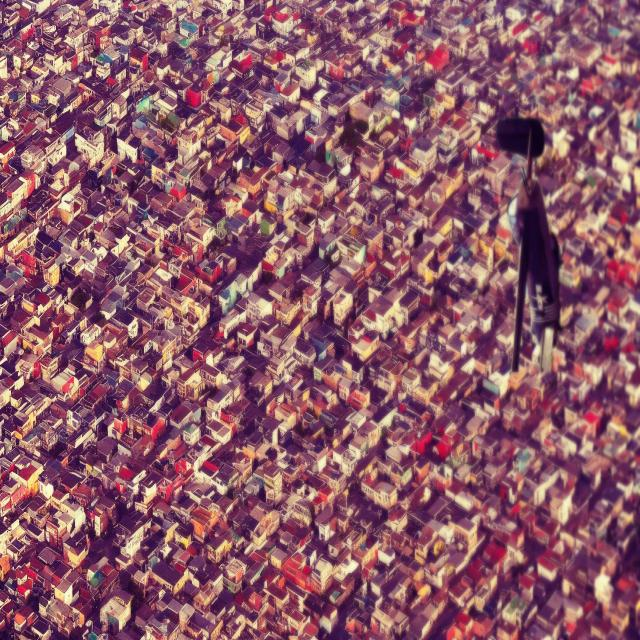airplane: (496, 119, 563, 375)
